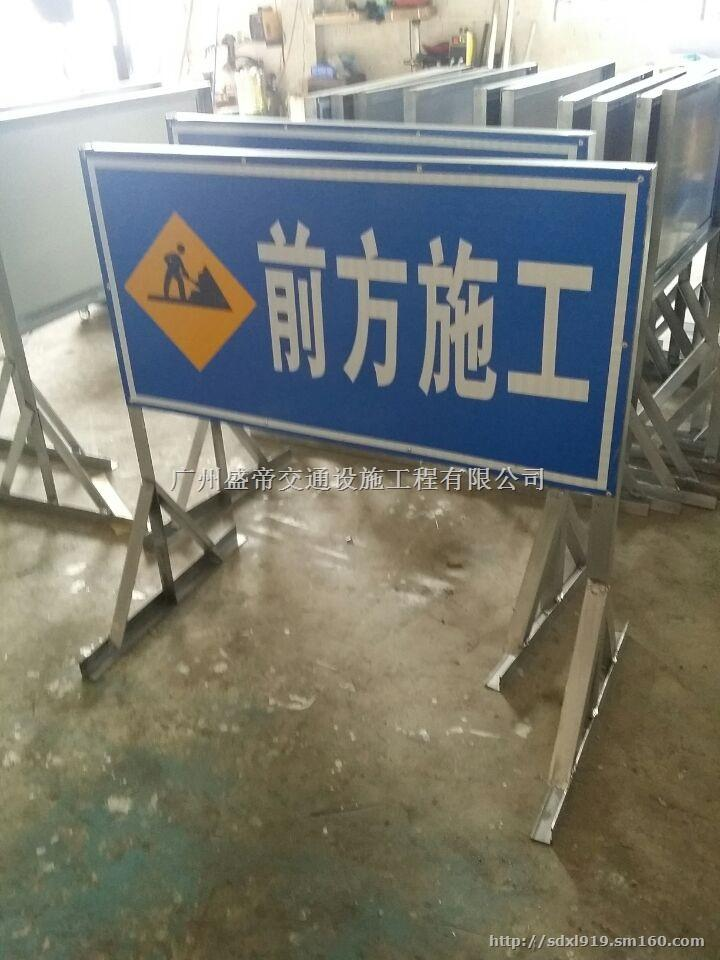sign: (79, 146, 632, 500)
